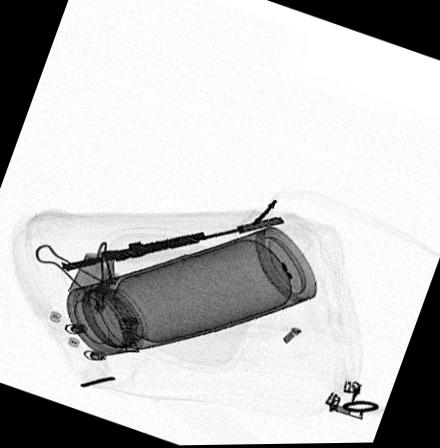Gun: (59, 218, 288, 271)
